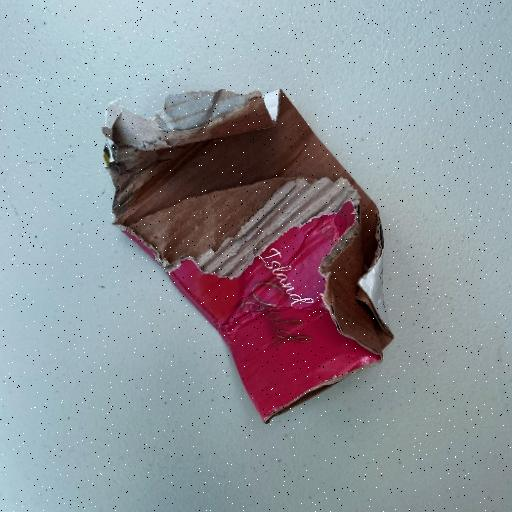Cardboard: (100, 86, 396, 425)
